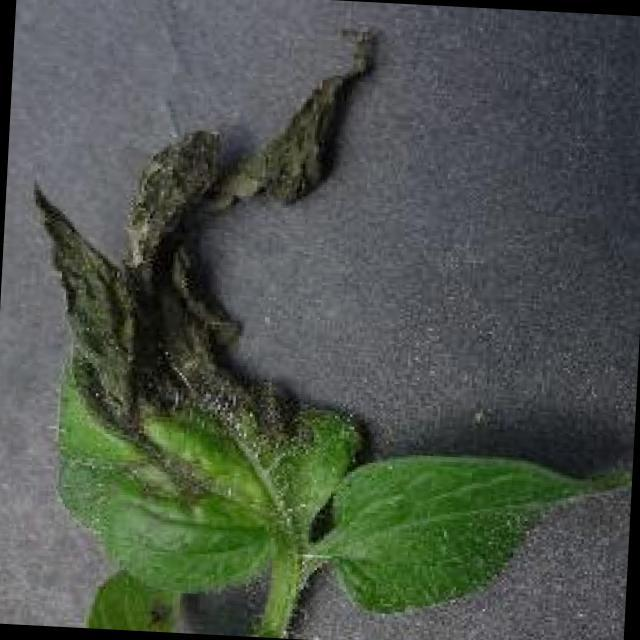Tomato healthy leaf: (328, 446, 613, 630)
Tomato late blight leaf: (8, 5, 380, 604)
